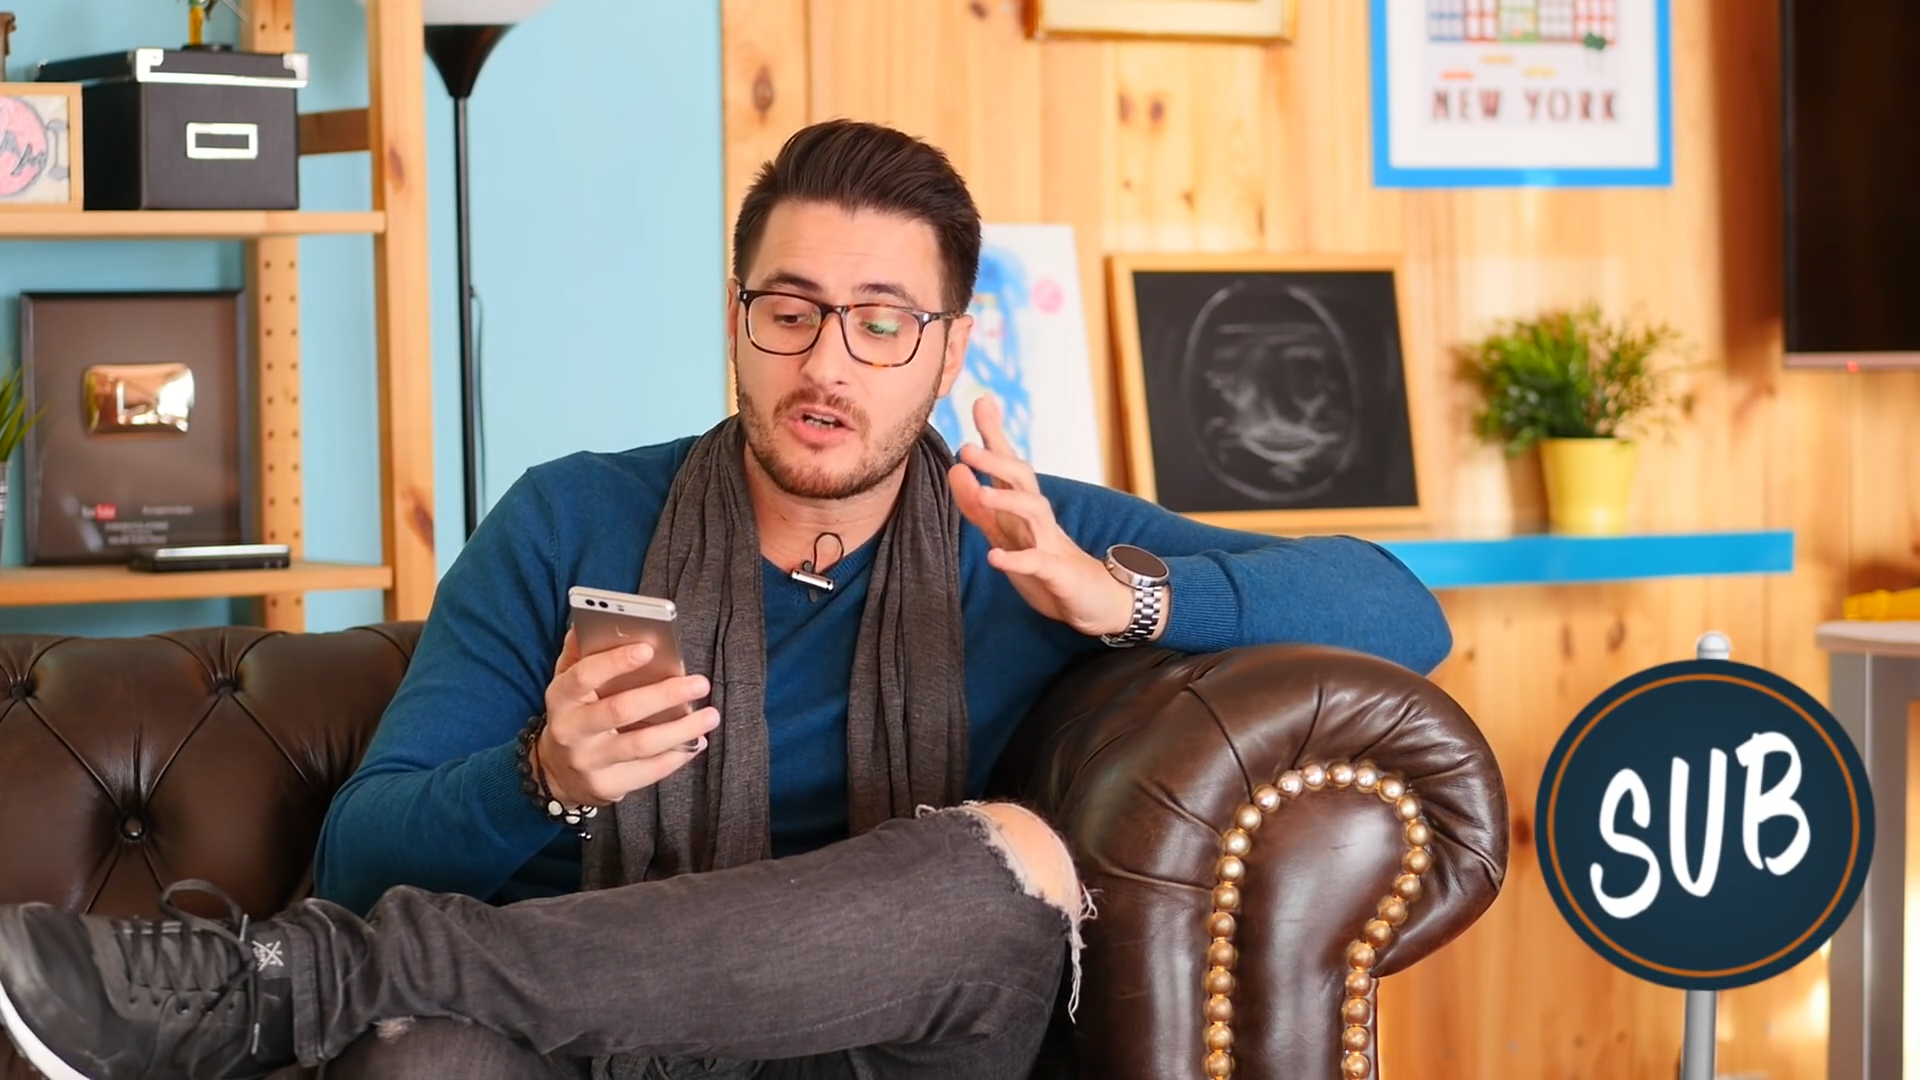smartphone: (567, 584, 702, 756)
